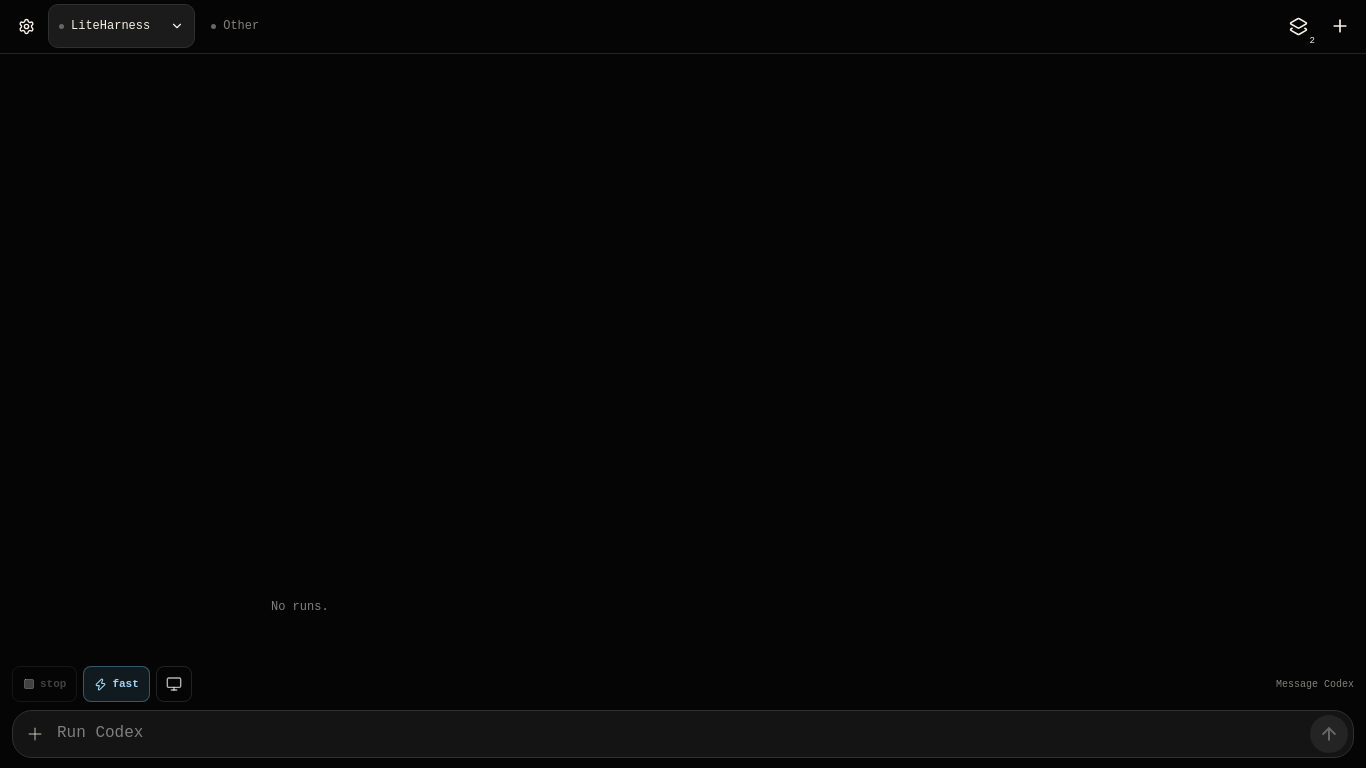
Test: MobileShell › renders thread tabs in the header with workspace menu actions
This screenshot has width=1366, height=768.
Expected: the tab with aria-label "Active thread LiteHarness" is shown, [49,5,160,47]
Click the button named "Thread menu for LiteHarness" at point(177, 26), box [160,5,194,47]
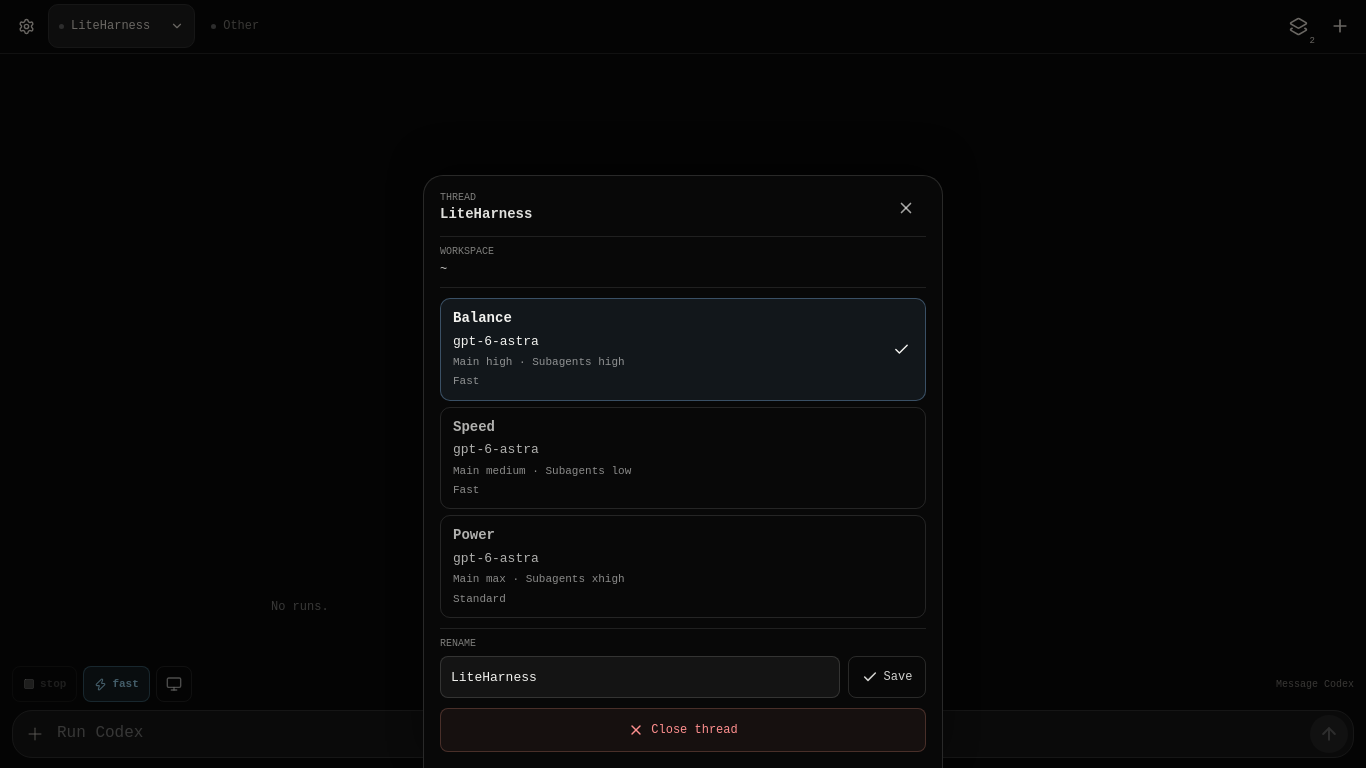
Result: the text "~" is shown at [440,262,447,276]
Result: the button with aria-label "Save thread name" is shown at [848,656,926,698]
Result: the button "Close thread" is shown
Click the button "Close thread" at point(683, 730), box [440,708,926,752]
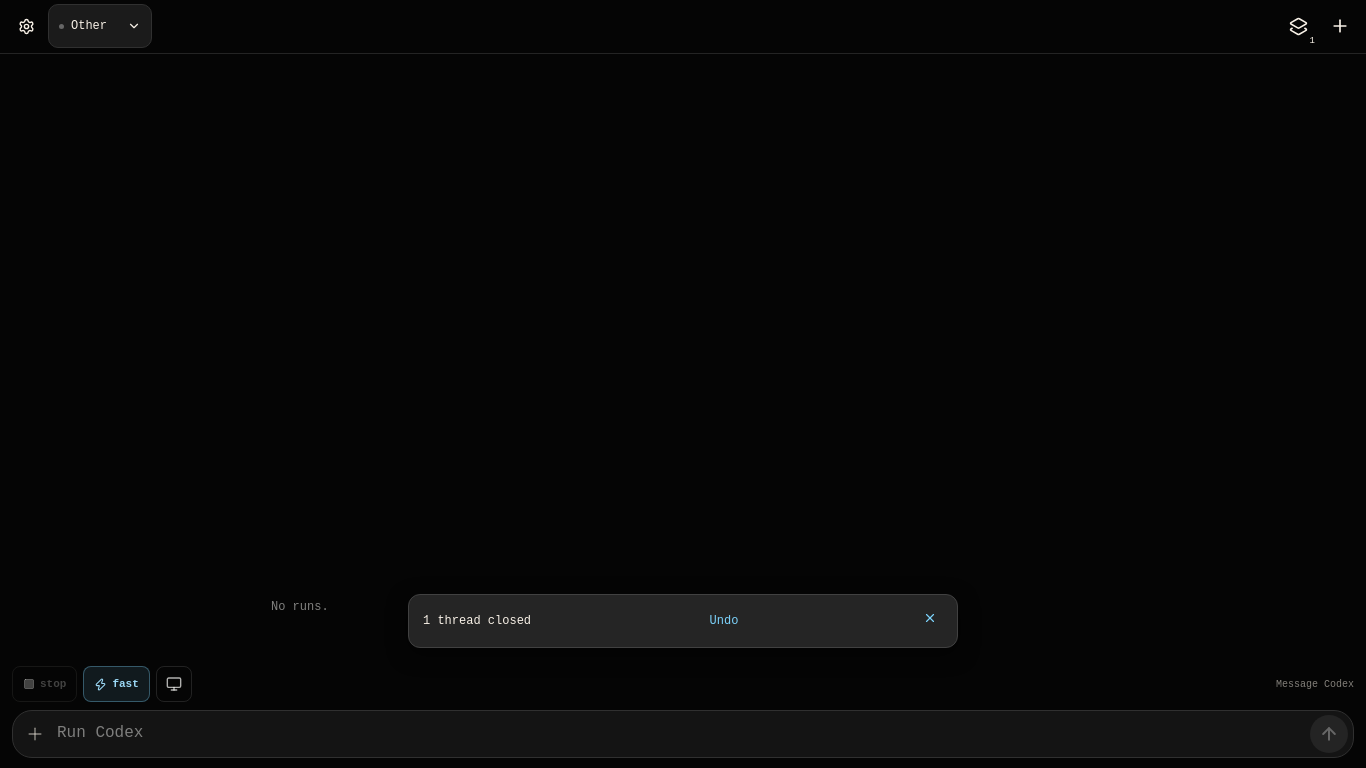
Result: the label labelled "Rename" is gone
